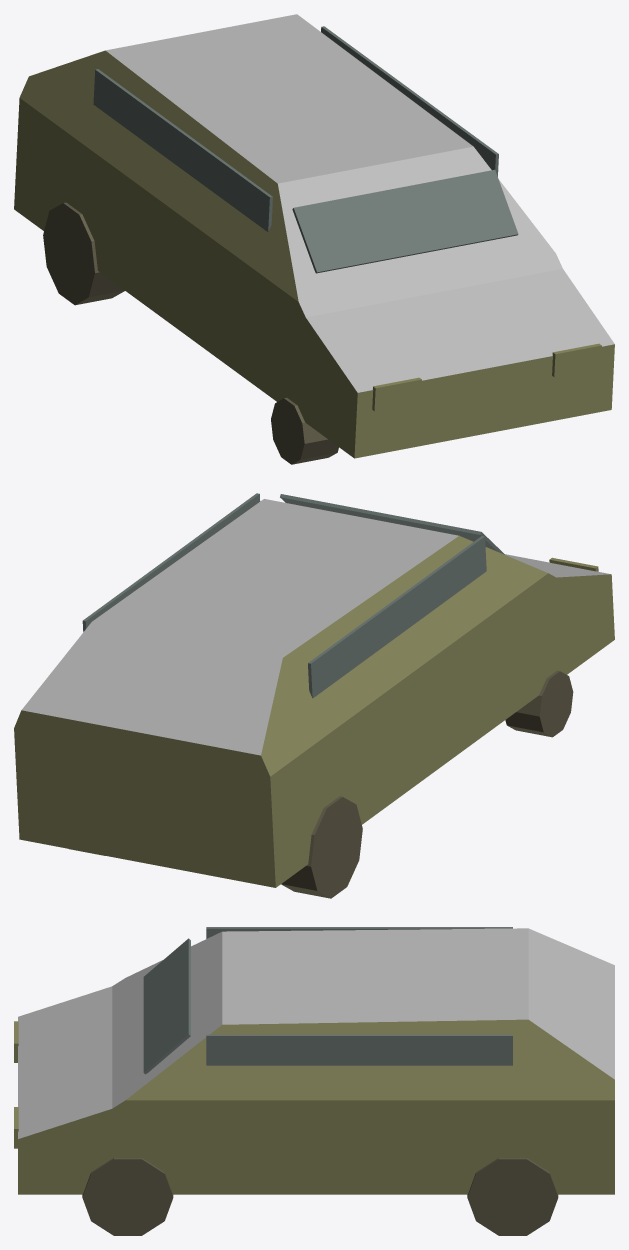
File: SM_CocheCivil_Utilitario_v2_LOD0.fbx
3 views of the same model, one above another, from view 1: azimuth 30°, elevation 25°; view 2: azimuth 150°, elevation 25°; view 3: azimuth 270°, elevation 25° (orthographic). The views are drawn at different scales.
Visible parts, largest first — view 1: SM_coche_civil_v2_LOD0; view 2: SM_coche_civil_v2_LOD0; view 3: SM_coche_civil_v2_LOD0.
Part boxes in pixels (<box>): SM_coche_civil_v2_LOD0: <box>14,14,614,464</box>; SM_coche_civil_v2_LOD0: <box>14,493,614,898</box>; SM_coche_civil_v2_LOD0: <box>14,927,614,1235</box>.
Size of the model in its own units: 1.73 by 1.51 by 3.82.
